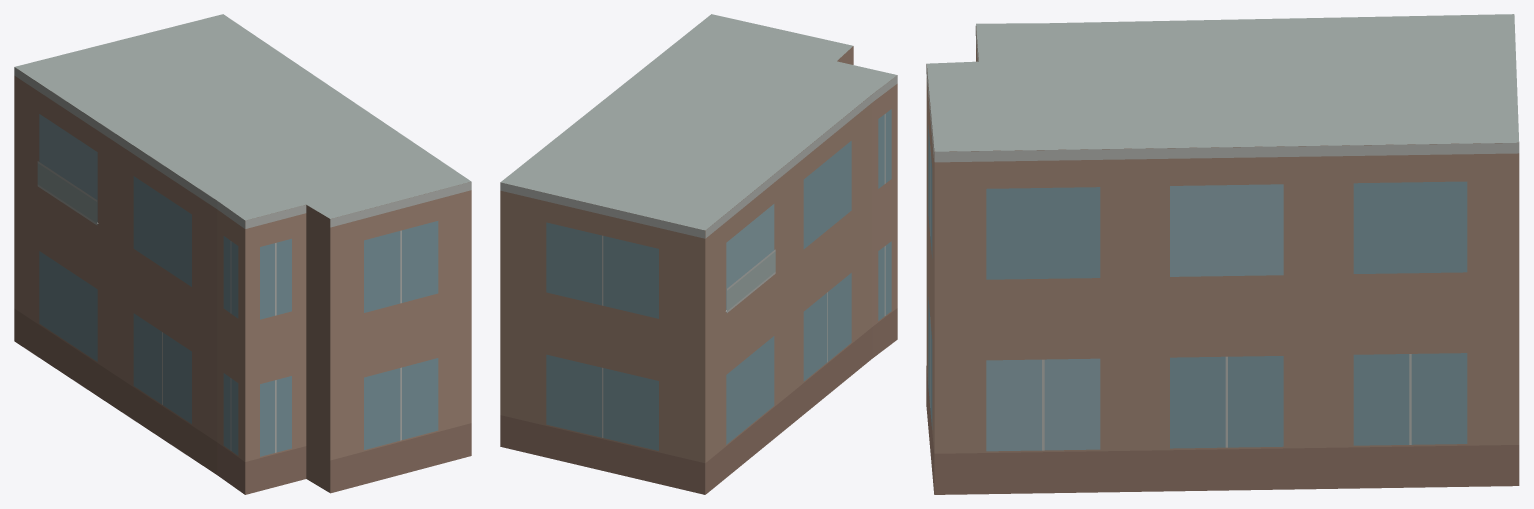
File: survey-upis-32639395.glb
3 renders of one model, left to right at view 1: azimuth 30°, elevation 25°; view 2: azimuth 150°, elevation 25°; view 3: azimuth 270°, elevation 25°, orthographic. The views are drawn at different scales.
Visible parts, largest first — view 1: survey-upis-32639395.tmp; view 2: survey-upis-32639395.tmp; view 3: survey-upis-32639395.tmp.
Part boxes in pixels (x1,y1,x2,y2): survey-upis-32639395.tmp: (14, 14, 471, 494); survey-upis-32639395.tmp: (500, 14, 897, 494); survey-upis-32639395.tmp: (926, 14, 1519, 494).
Bounding box in the file's own units: 6.72 × 7.8 × 12.22.
